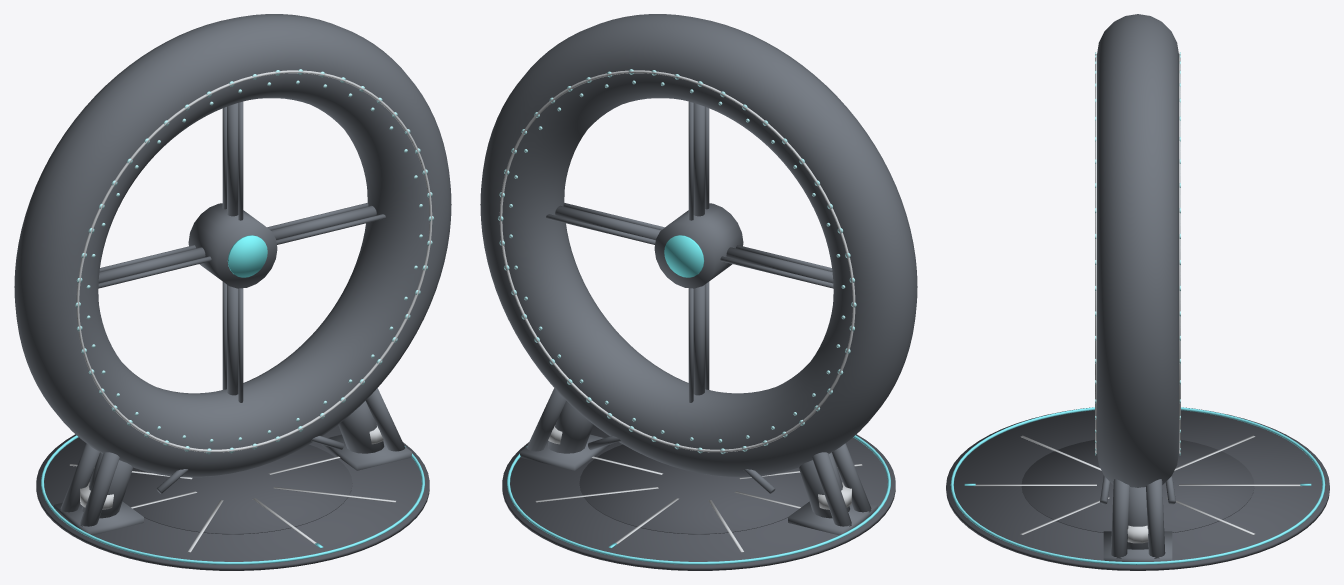
Rendered from station_ring.gltf.
3 views of the same model, side by side, from view 1: azimuth 30°, elevation 25°; view 2: azimuth 150°, elevation 25°; view 3: azimuth 270°, elevation 25° (orthographic). The views are drawn at different scales.
Visible parts, largest first — view 1: RingBody, LandingPad, Trim, PadGlow, Portholes, Core; view 2: RingBody, LandingPad, Trim, PadGlow, Portholes, Core; view 3: RingBody, LandingPad, Trim, PadGlow.
Part boxes in pixels (<box>): RingBody: <box>14,14,451,535</box>; LandingPad: <box>36,425,429,570</box>; Trim: <box>69,70,432,552</box>; PadGlow: <box>41,435,424,564</box>; Portholes: <box>75,69,433,453</box>; Core: <box>227,235,267,277</box>; RingBody: <box>480,14,917,535</box>; LandingPad: <box>502,425,895,570</box>; Trim: <box>499,70,862,552</box>; PadGlow: <box>507,435,890,564</box>; Portholes: <box>498,69,856,453</box>; Core: <box>664,235,704,277</box>; RingBody: <box>1097,14,1178,561</box>; LandingPad: <box>946,407,1329,570</box>; Trim: <box>974,54,1301,543</box>; PadGlow: <box>950,407,1325,564</box>.
Size of the model in its own units: 70 by 73 by 56.
